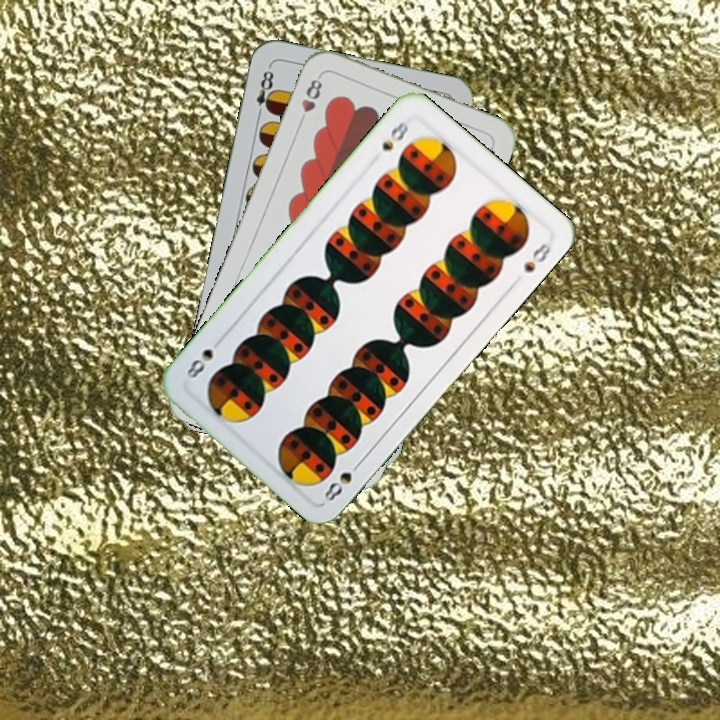E8: (252, 63, 278, 121)
H8: (295, 71, 325, 128)
S8: (320, 456, 365, 507), (377, 116, 412, 154)
